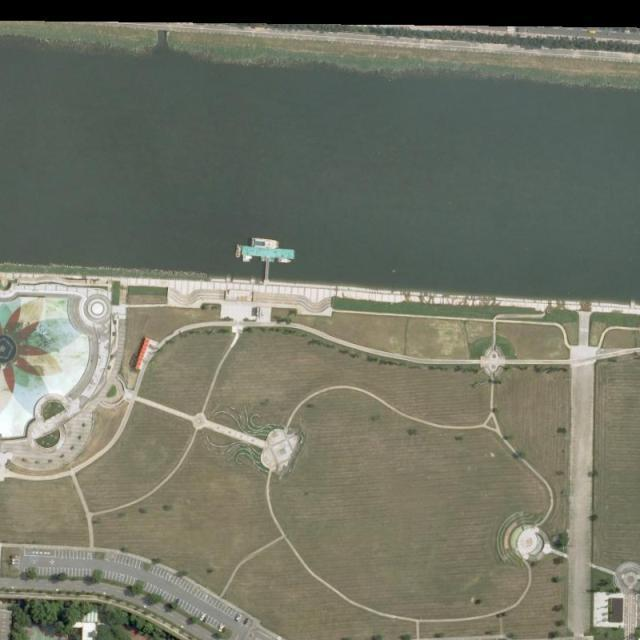vehicle: (235, 613, 242, 622), (219, 624, 226, 633), (244, 618, 250, 626), (174, 598, 180, 606), (203, 615, 209, 622), (200, 614, 205, 621), (588, 30, 596, 34)
